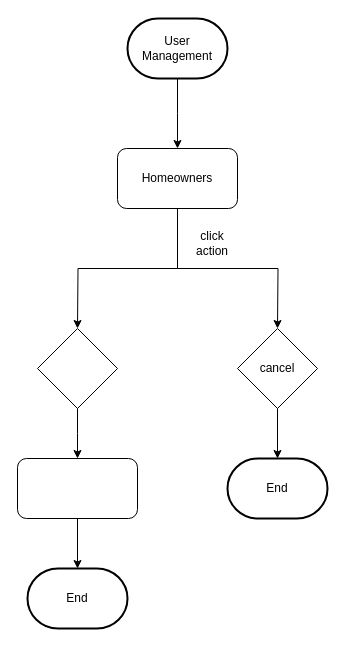
This 346x646 diagram has some shape labels left out. Here are the shapes that lost their labels. From the top down, the centre of each, then its label:
the point at 77,368: Change Position
the point at 77,488: Position Update Succesfully
